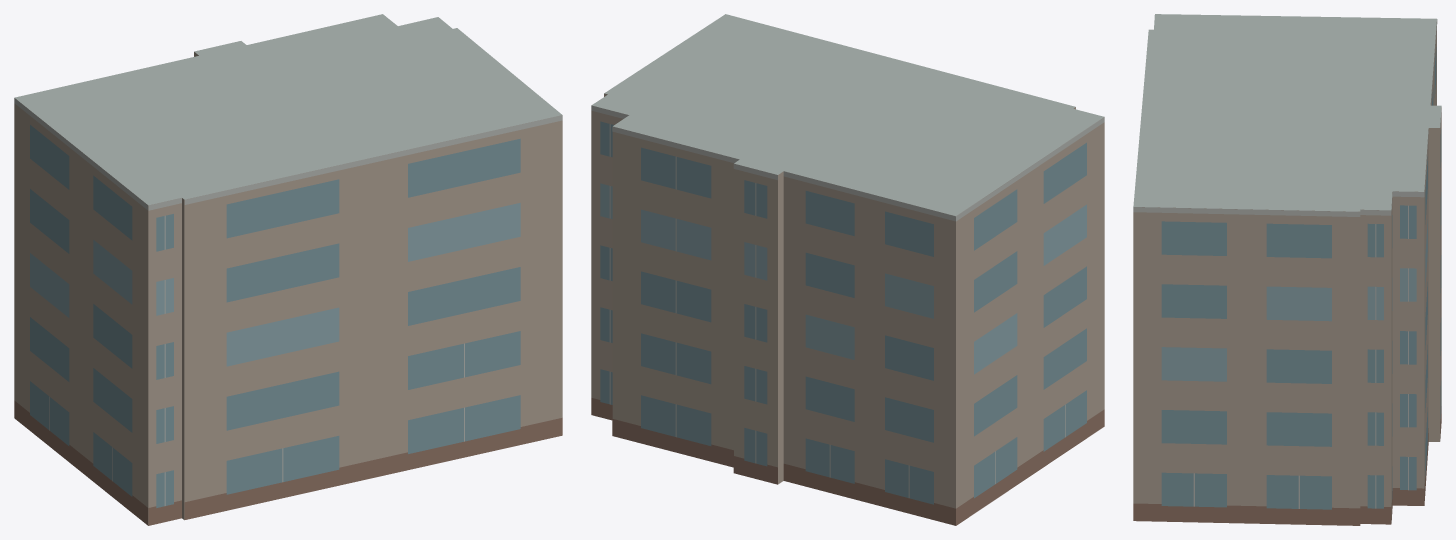
The model's file is survey-upis-32655673.glb.
3 renders of one model, left to right at view 1: azimuth 30°, elevation 25°; view 2: azimuth 150°, elevation 25°; view 3: azimuth 270°, elevation 25°, orthographic. The views are drawn at different scales.
Visible parts, largest first — view 1: survey-upis-32655673.tmp; view 2: survey-upis-32655673.tmp; view 3: survey-upis-32655673.tmp.
Boxes of the visible parts, <box> form: survey-upis-32655673.tmp: <box>14,14,562,525</box>; survey-upis-32655673.tmp: <box>591,14,1104,525</box>; survey-upis-32655673.tmp: <box>1133,14,1441,525</box>.
Size of the model in its own units: 19.45 by 14.4 by 12.82.
